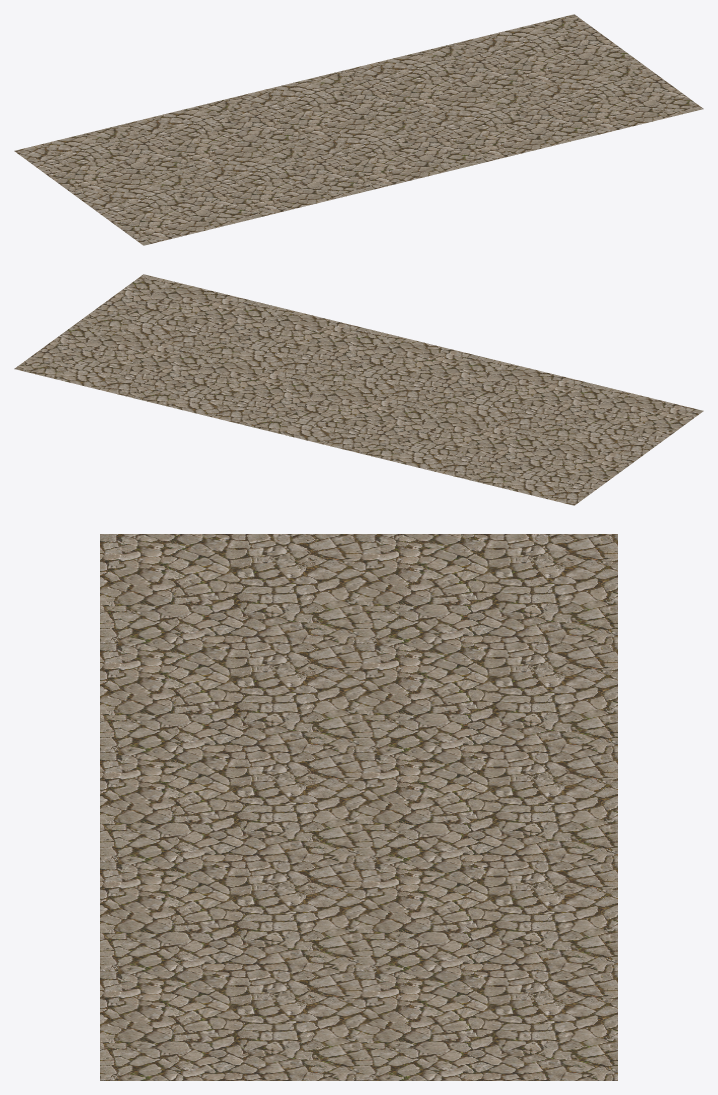
File: qwer.fbx
The picture shows the model from 3 angles, top to bottom: view 1: azimuth 30°, elevation 25°; view 2: azimuth 150°, elevation 25°; view 3: azimuth 270°, elevation 25°; orthographic projection. The views are drawn at different scales.
Parts seen in each view (by area): view 1: Lobby_Plane.001; view 2: Lobby_Plane.001; view 3: Lobby_Plane.001.
Boxes of the visible parts, bbox=[...] form: Lobby_Plane.001: bbox=[14, 14, 703, 245]; Lobby_Plane.001: bbox=[14, 274, 703, 505]; Lobby_Plane.001: bbox=[100, 534, 617, 1080].
Size of the model in its own units: 9.73 by 1.61e-16 by 3.9.
Materials: 10 (10 with a texture image).
